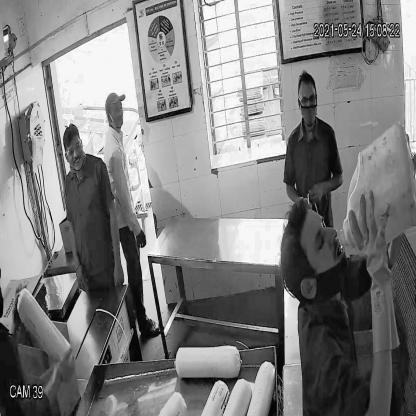goggles: (295, 90, 322, 110), (63, 139, 84, 160)
no_goggles: (312, 206, 330, 284)
